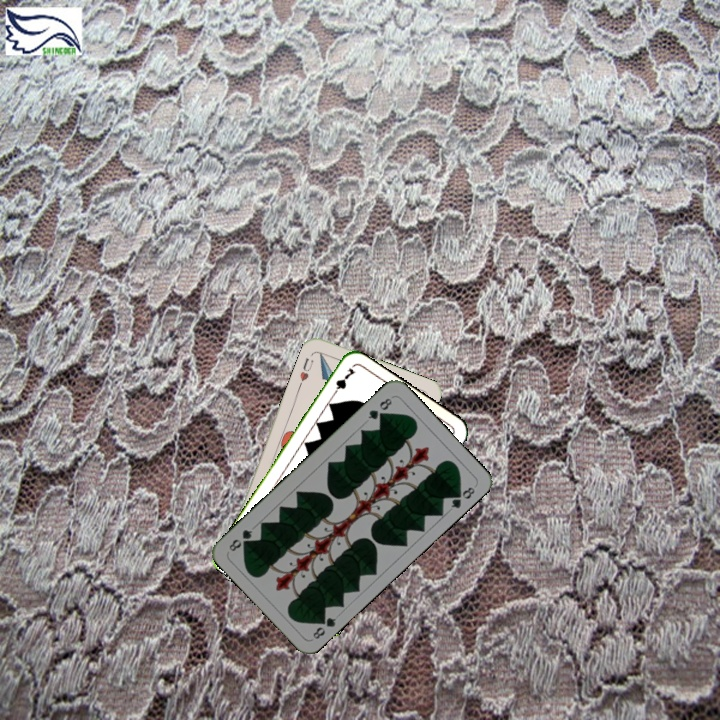G7: (327, 363, 358, 400)
G8: (309, 611, 338, 642), (364, 394, 395, 422)
HU: (296, 354, 316, 384)
